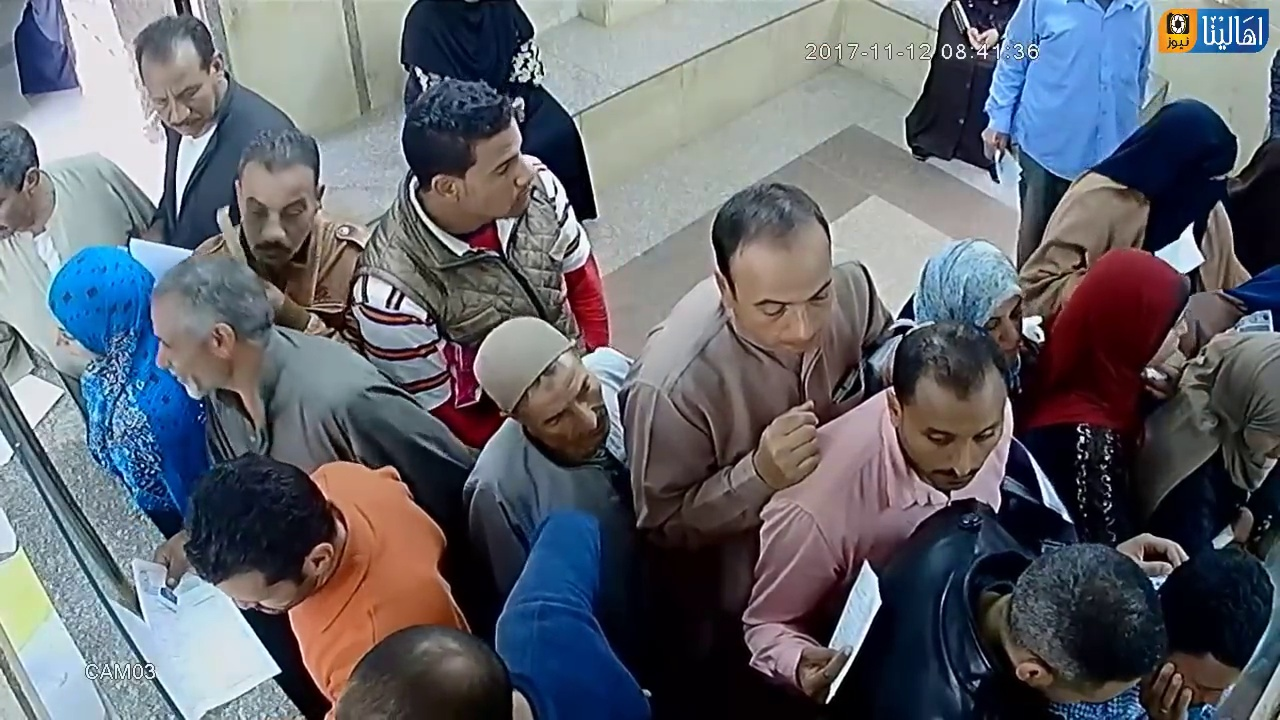face: (909, 391, 999, 494), (737, 259, 827, 354), (507, 383, 610, 461), (149, 295, 205, 408), (142, 54, 212, 144), (230, 176, 310, 253), (469, 136, 534, 228)
